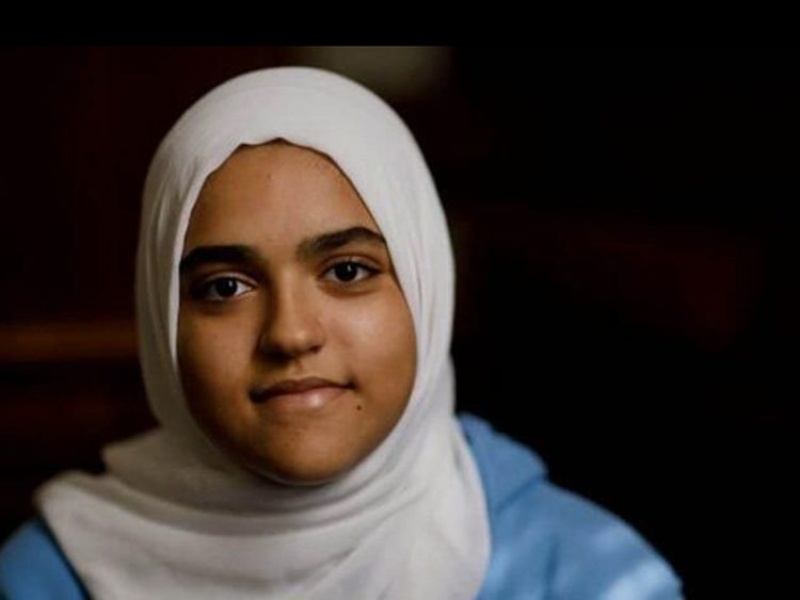face: (183, 238, 400, 431)
